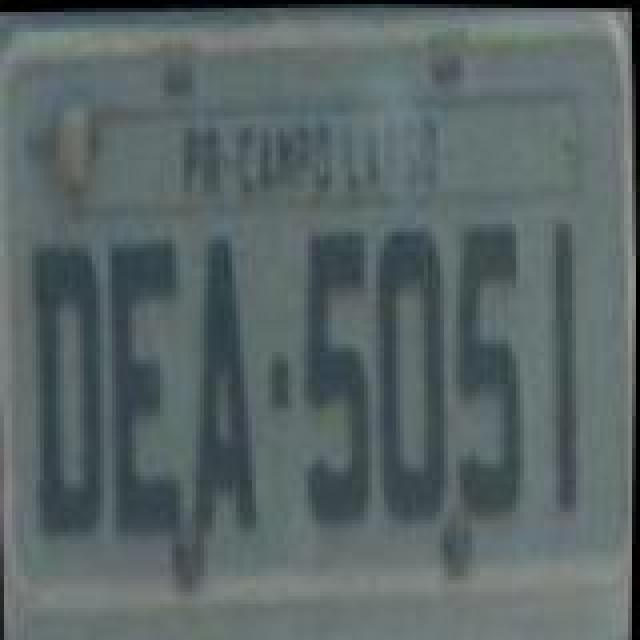1: (542, 208, 590, 508)
5: (294, 212, 382, 532), (446, 212, 534, 524)
A: (180, 222, 264, 542)
D: (24, 236, 116, 540)
E: (98, 232, 186, 536)
O: (370, 216, 458, 520)
